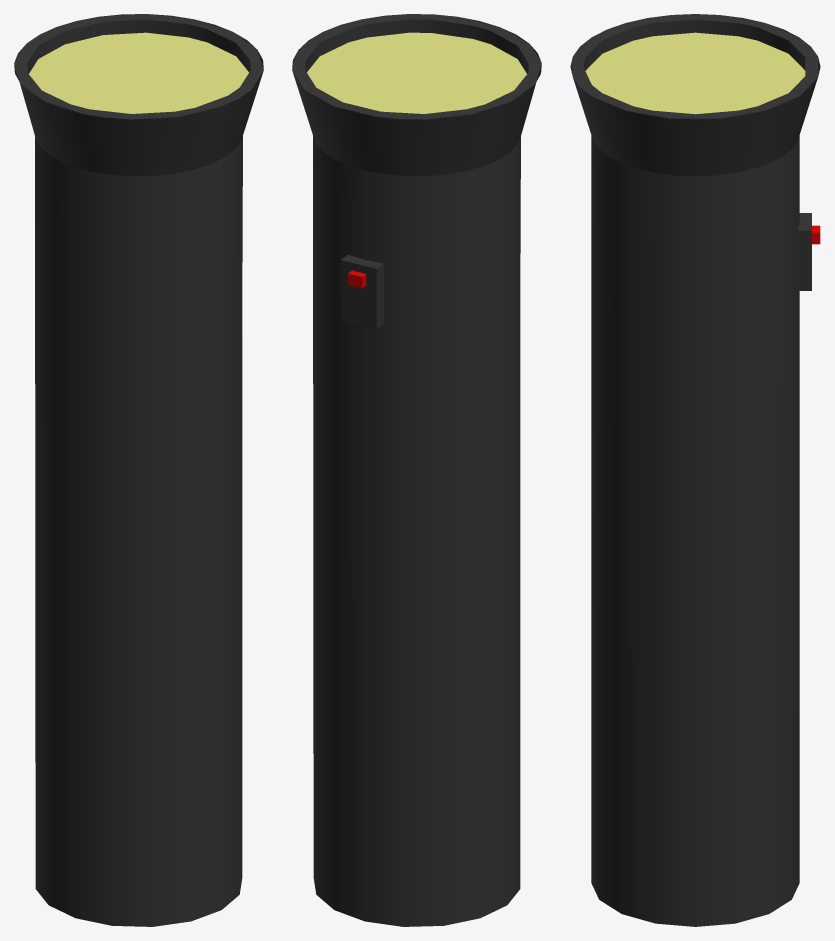
The model's file is flashlight.glb.
3 views of the same model, side by side, from view 1: azimuth 30°, elevation 25°; view 2: azimuth 150°, elevation 25°; view 3: azimuth 270°, elevation 25° (orthographic).
Visible parts, largest first — view 1: Cylinder; view 2: Cylinder; view 3: Cylinder.
Part boxes in pixels (x1,y1,x2,y2): Cylinder: (14, 14, 263, 926); Cylinder: (292, 14, 541, 926); Cylinder: (570, 14, 820, 926).
Bounding box in the file's own units: 0.6 × 2.16 × 0.6.
